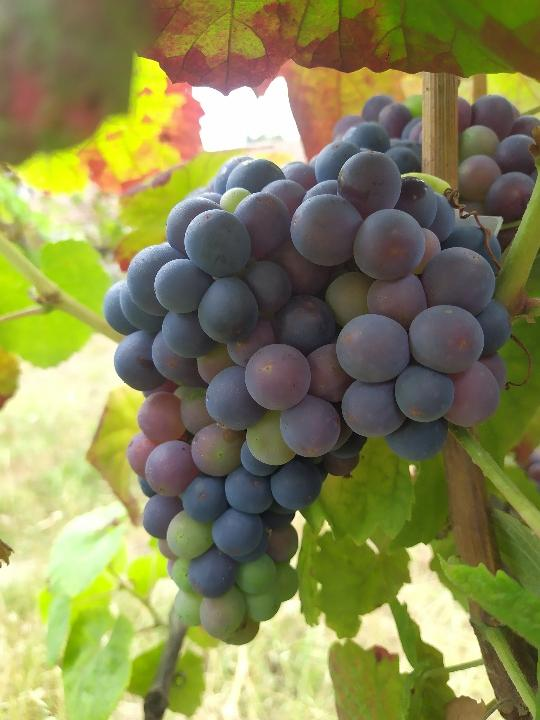grape: (99, 136, 516, 647)
